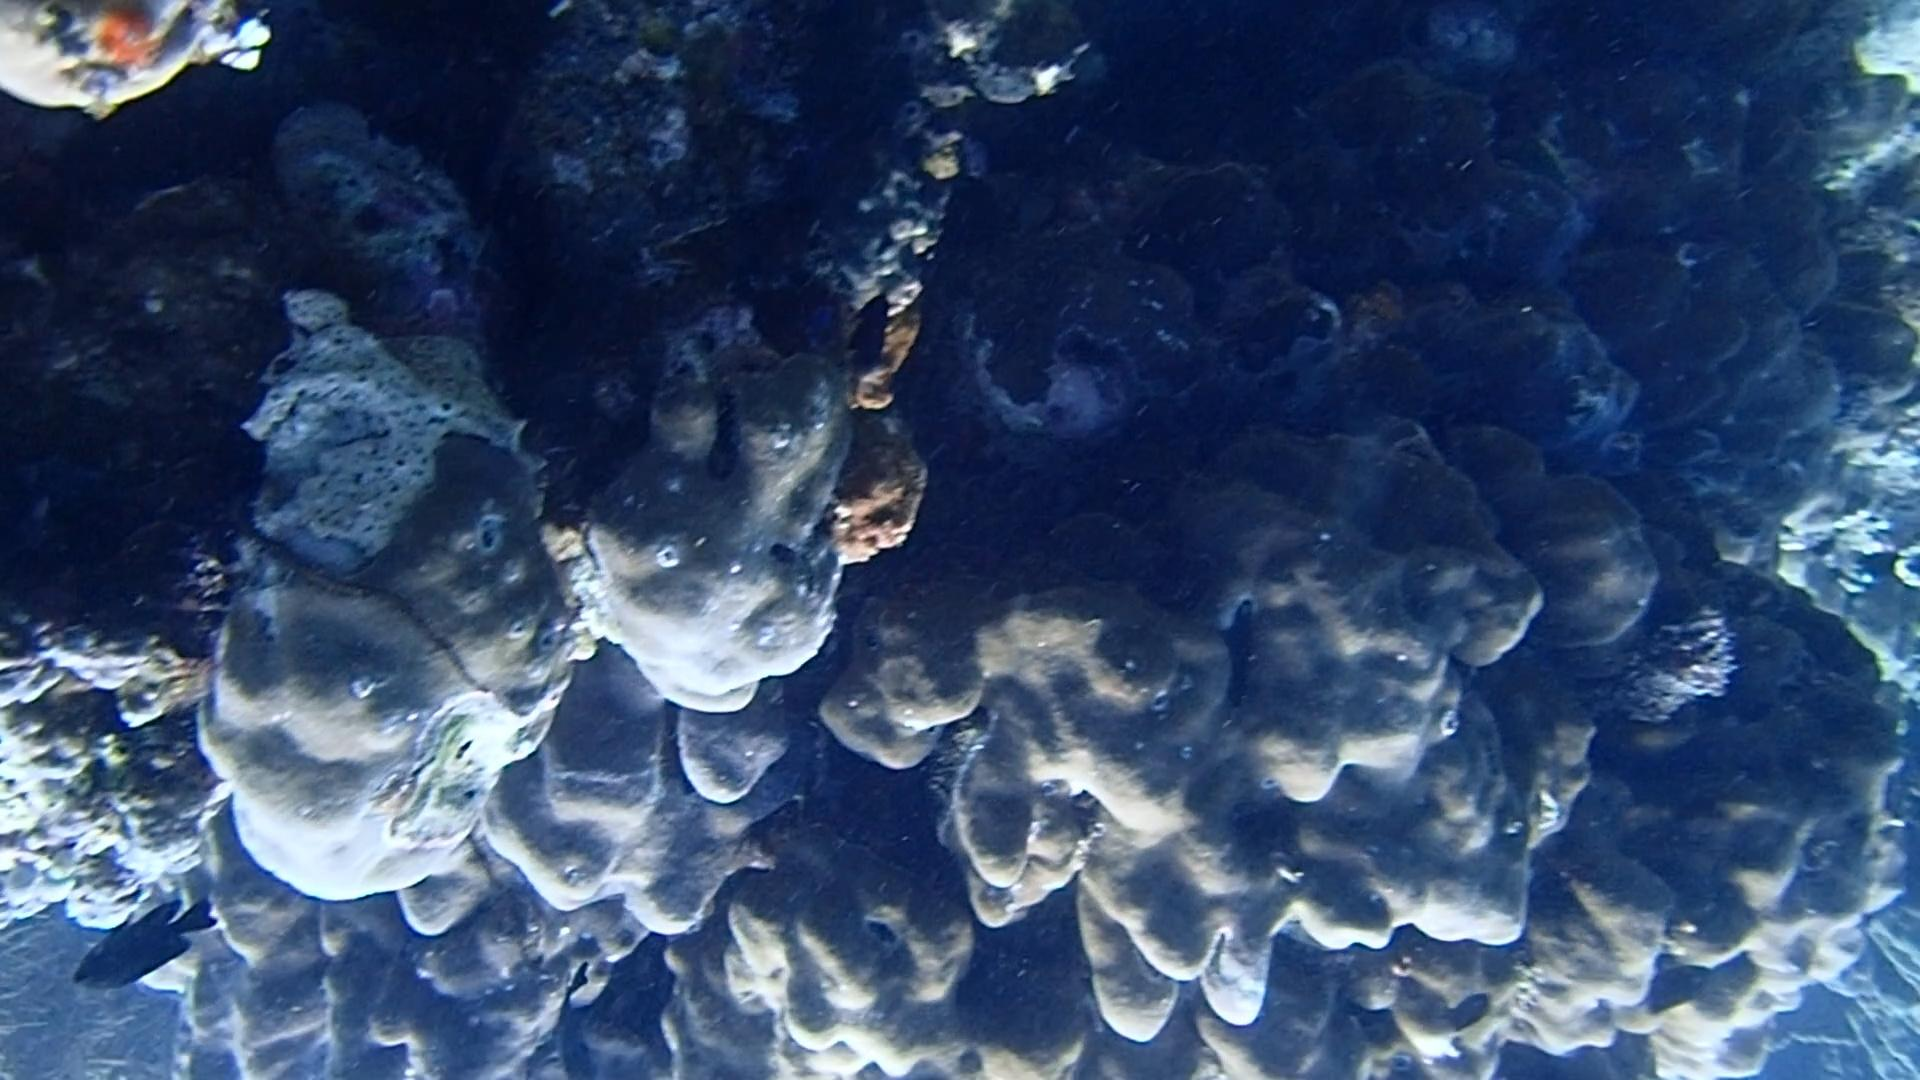Dark Fish: (54, 884, 232, 1006), (836, 286, 909, 380), (1639, 957, 1727, 1030), (1439, 975, 1507, 1052)
